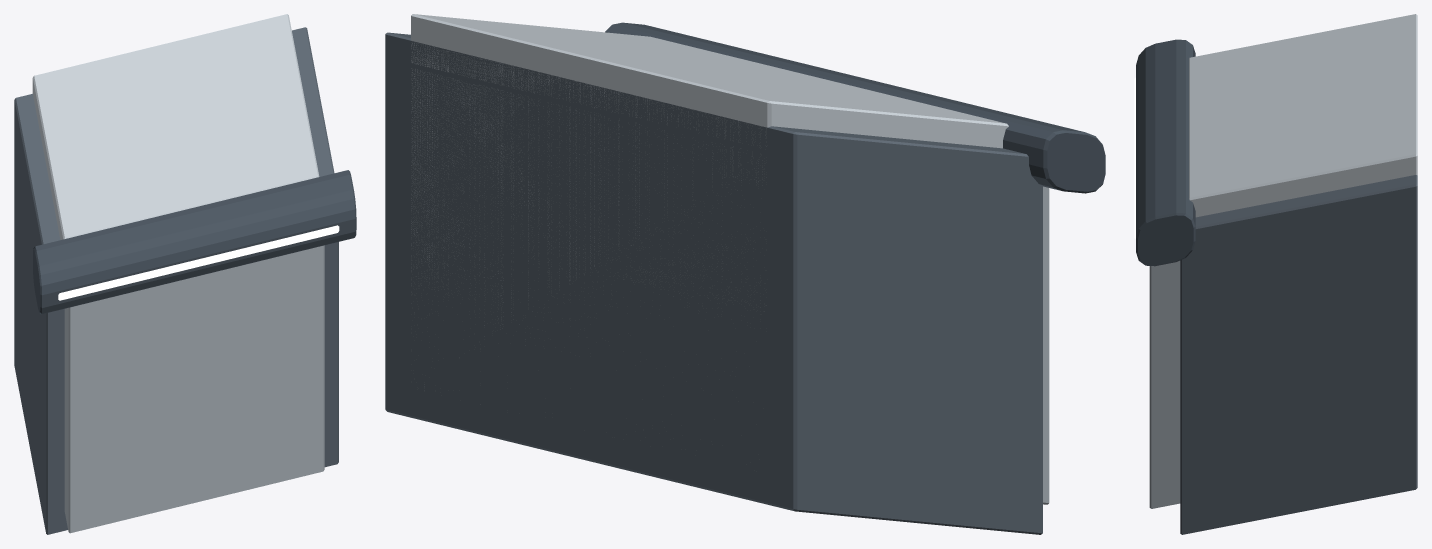
The model's file is Terrain_TopRun1LR.gltf.
3 renders of one model, left to right at view 1: azimuth 30°, elevation 25°; view 2: azimuth 150°, elevation 25°; view 3: azimuth 270°, elevation 25°, orthographic. The views are drawn at different scales.
Parts seen in each view (by area): view 1: Terrain_TopRun1LR_baked; view 2: Terrain_TopRun1LR_baked; view 3: Terrain_TopRun1LR_baked.
Part boxes in pixels (x1=…): Terrain_TopRun1LR_baked: x1=14, y1=14, x2=356, y2=534; Terrain_TopRun1LR_baked: x1=385, y1=14, x2=1105, y2=534; Terrain_TopRun1LR_baked: x1=1134, y1=14, x2=1417, y2=534.
Bounding box in the file's own units: 1.33 × 1.18 × 0.74.
